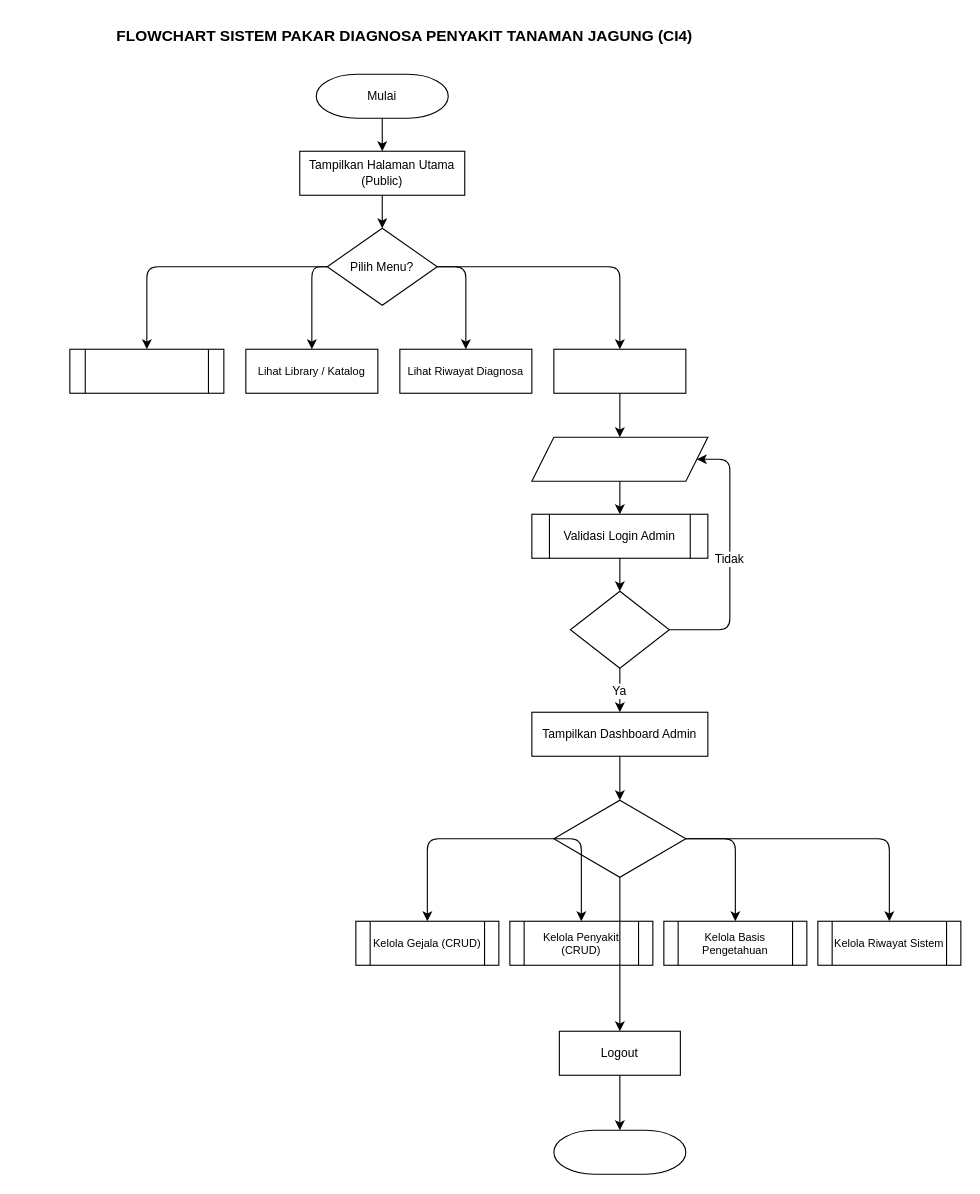
Image size: 980x1194. Some labels were removed from this diagram. The shapes that lost their labels are listed below. From the top down, each one's centre as x and y in pixels, then its label:
At point 146,370: "Deteksi Penyakit (Certainty Factor)".
At point 619,370: "Login Admin".
At point 619,458: "Input Username & Password".
At point 619,629: "Login Valid?".
At point 619,838: "Pilih Menu Admin?".
At point 619,1151: "Selesai".
